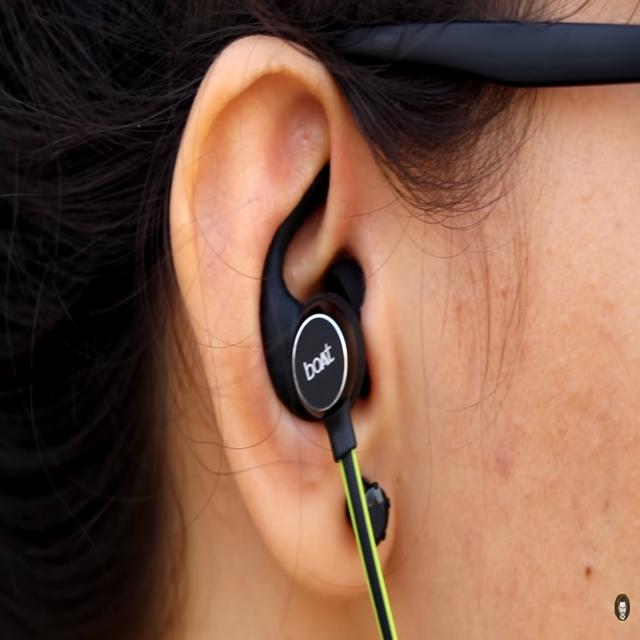Earphone: (258, 153, 399, 640)
